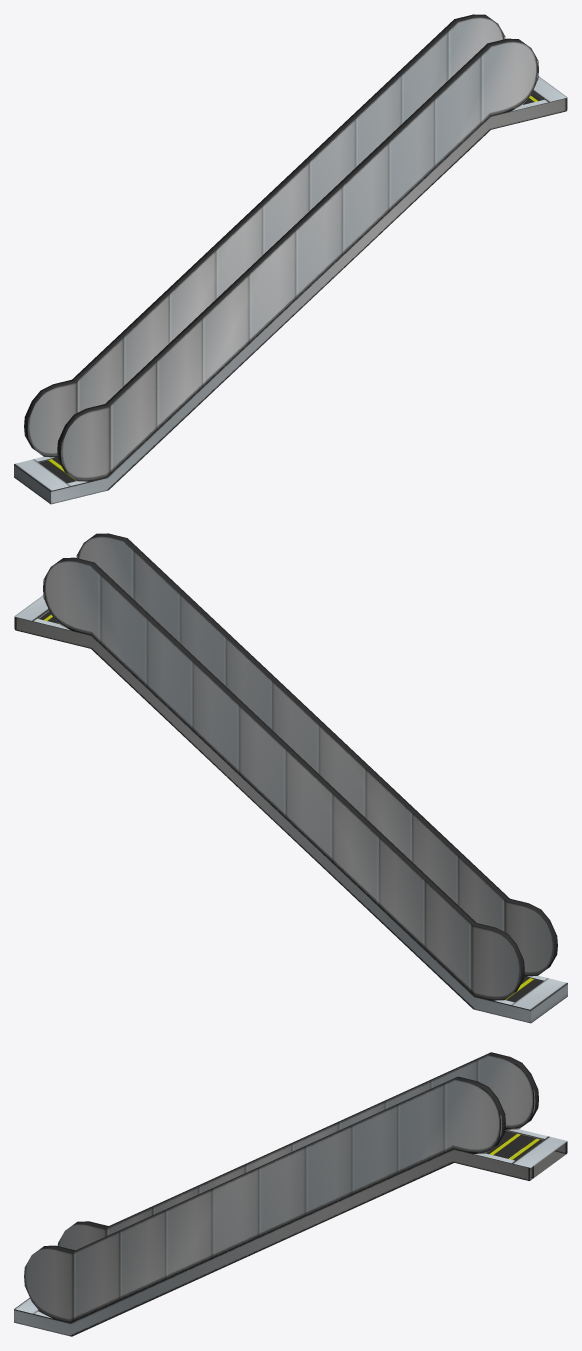
File: Escalator complet.fbx
3 renders of one model, top to bottom at view 1: azimuth 30°, elevation 25°; view 2: azimuth 150°, elevation 25°; view 3: azimuth 330°, elevation 25°, orthographic.
Visible parts, largest first — view 1: entrée gare; view 2: entrée gare; view 3: entrée gare.
Part boxes in pixels (x1,y1,x2,y2): entrée gare: (14, 14, 567, 504); entrée gare: (14, 533, 567, 1023); entrée gare: (14, 1052, 567, 1336).
Size of the model in its own units: 1619 by 1053 by 200.
